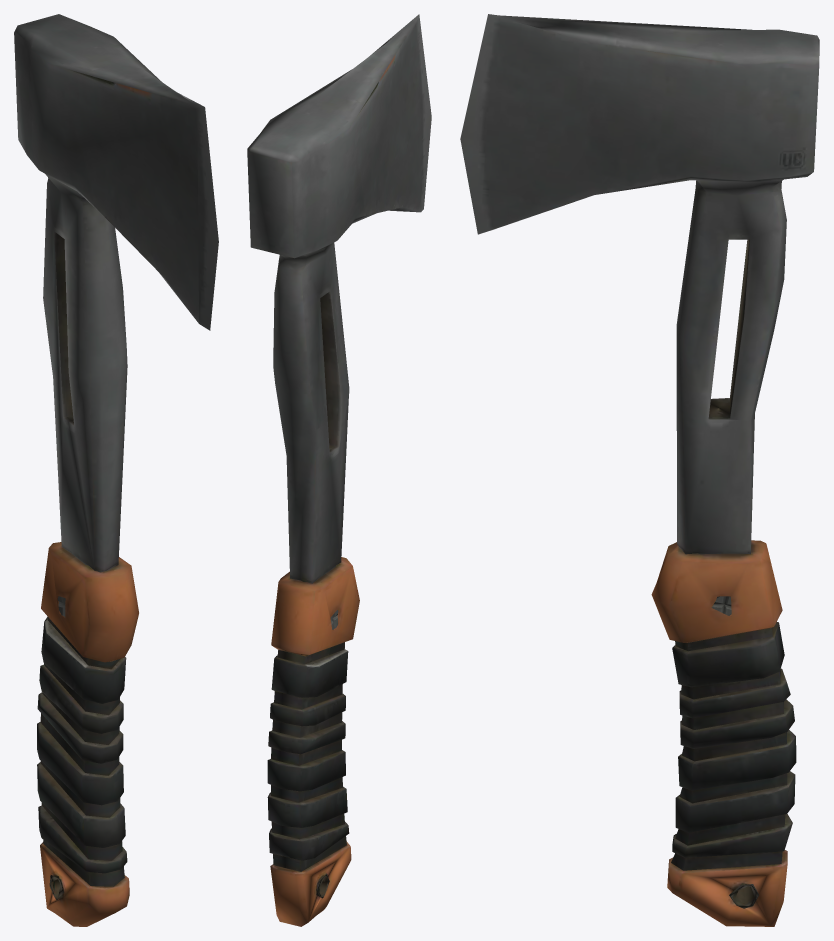
File: hatchet.glb
The picture shows the model from 3 angles, left to right: view 1: azimuth 30°, elevation 25°; view 2: azimuth 150°, elevation 25°; view 3: azimuth 270°, elevation 25°; orthographic projection. The views are drawn at different scales.
Parts seen in each view (by area): view 1: hatchet; view 2: hatchet; view 3: hatchet.
Boxes of the visible parts, x1,y1,x2,y2 form: hatchet: [14, 14, 218, 926]; hatchet: [247, 14, 431, 926]; hatchet: [460, 14, 819, 926].
Bounding box in the file's own units: 0.0252 × 0.2881 × 0.1032.
1 material, 1 textured.
